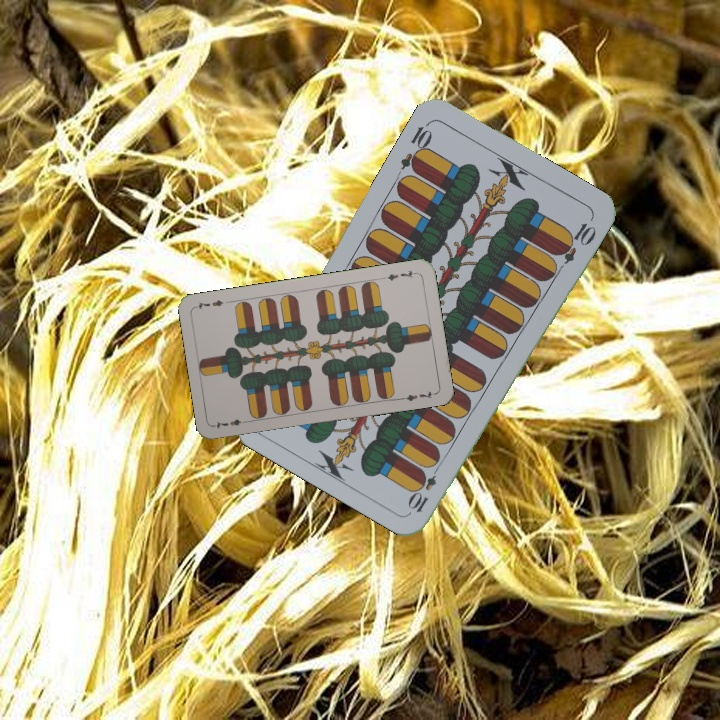E10: (396, 118, 436, 175), (405, 459, 443, 515)
E7: (379, 266, 419, 283), (211, 415, 251, 431)
